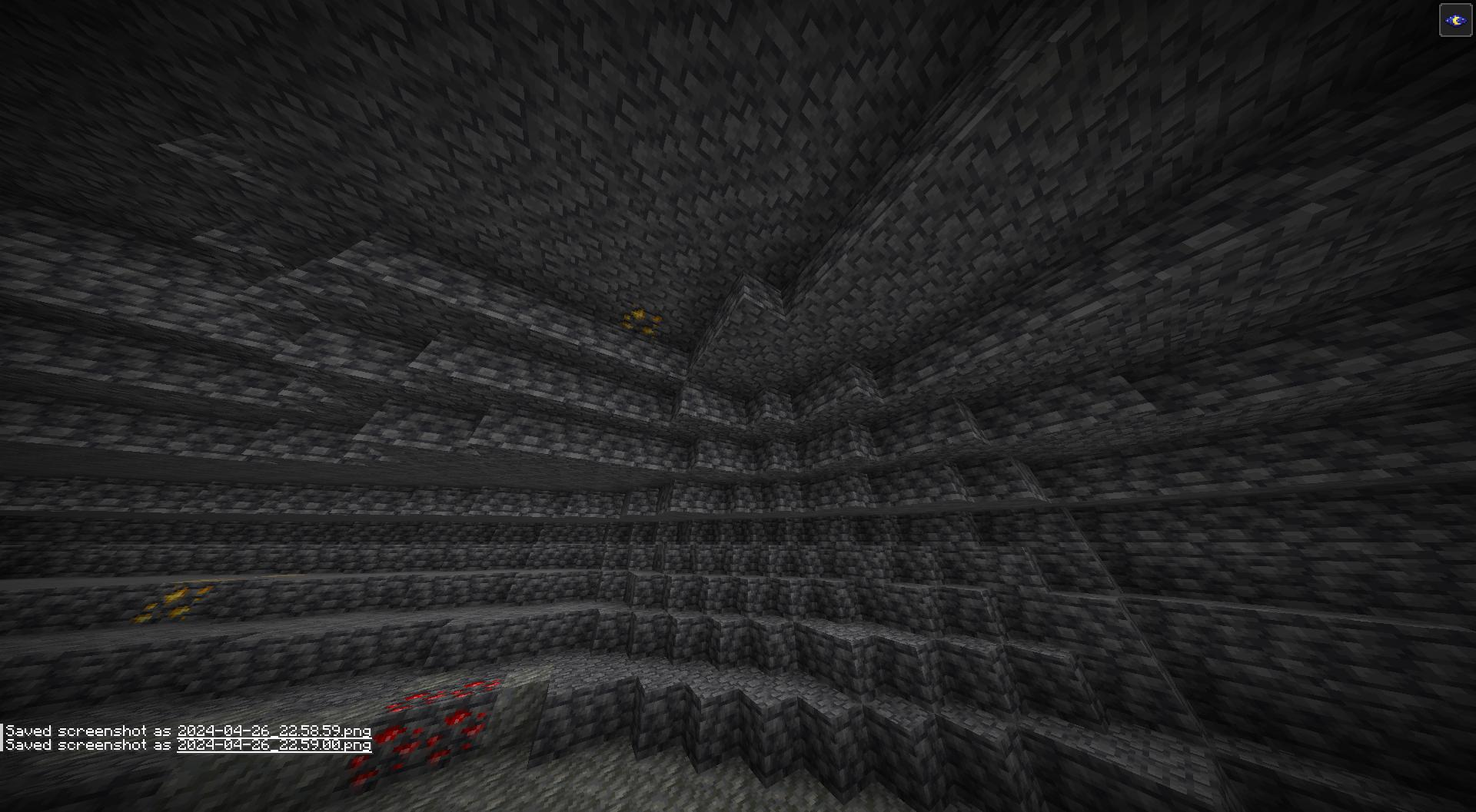gold ore: (136, 583, 214, 627), (619, 302, 671, 342)
redstone ore: (355, 689, 429, 773), (438, 680, 496, 762)
